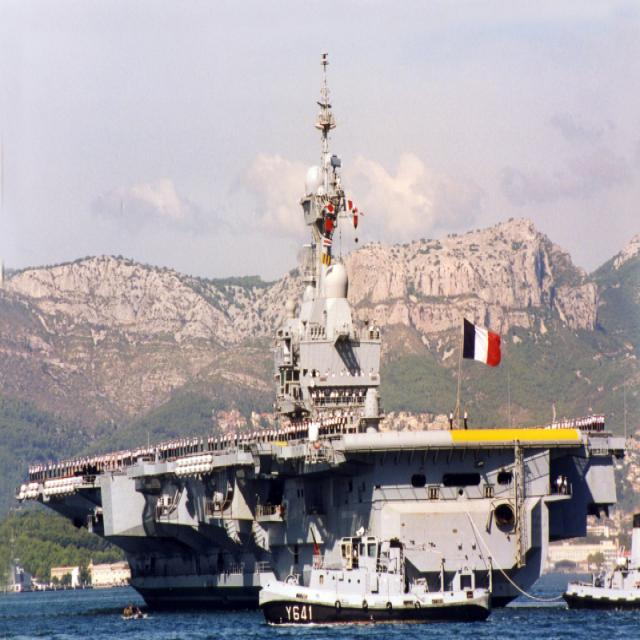Portanaves: (14, 48, 631, 617)
